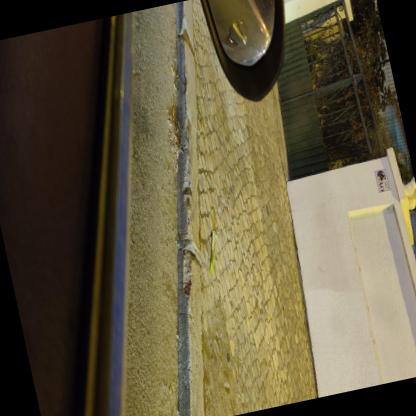Paper: (209, 230, 215, 277), (168, 386, 171, 398), (172, 83, 175, 90), (170, 67, 172, 76), (171, 108, 173, 117)
